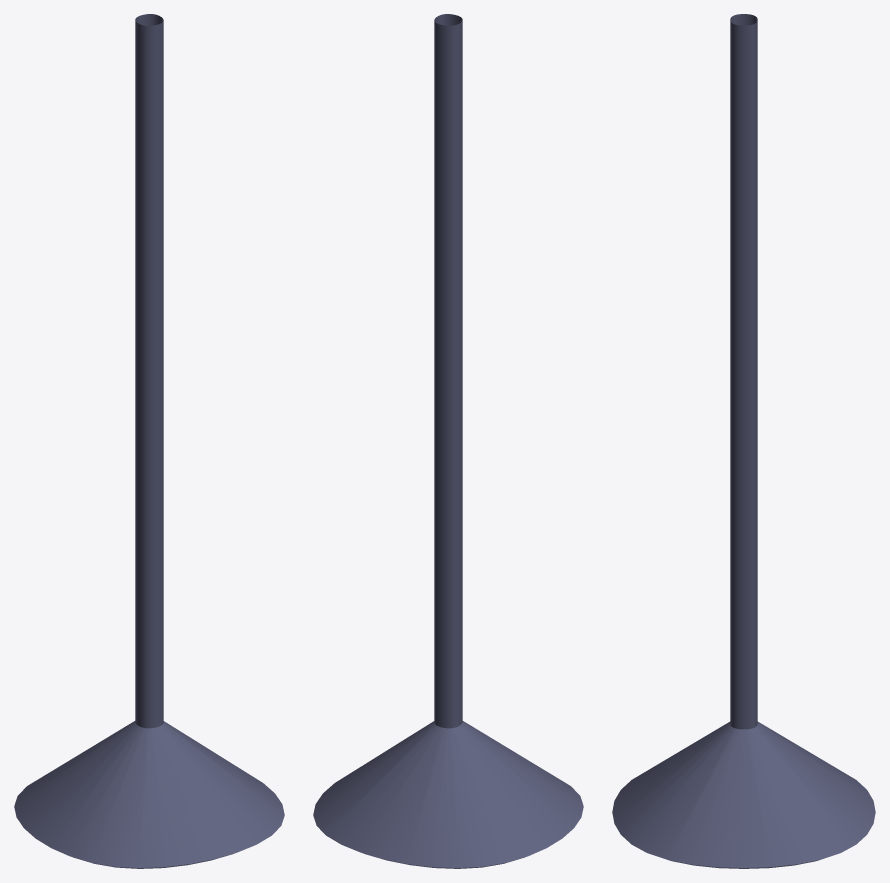
The model's file is chage.fbx.
The picture shows the model from 3 angles, left to right: view 1: azimuth 30°, elevation 25°; view 2: azimuth 150°, elevation 25°; view 3: azimuth 270°, elevation 25°; orthographic projection.
Parts seen in each view (by area): view 1: light; view 2: light; view 3: light.
Part boxes in pixels (x1=…): light: x1=14, y1=14, x2=284, y2=868; light: x1=313, y1=14, x2=583, y2=868; light: x1=612, y1=14, x2=875, y2=868.
Size of the model in its own units: 251 by 870 by 251.
